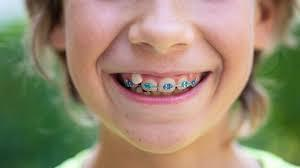Braces: (120, 80, 199, 90)
Misaligned tooth: (131, 72, 144, 85)
